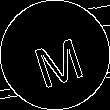M_N: (25, 24, 85, 86)
